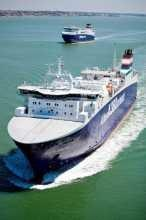Cargoship: (4, 39, 140, 174), (59, 20, 99, 43)
